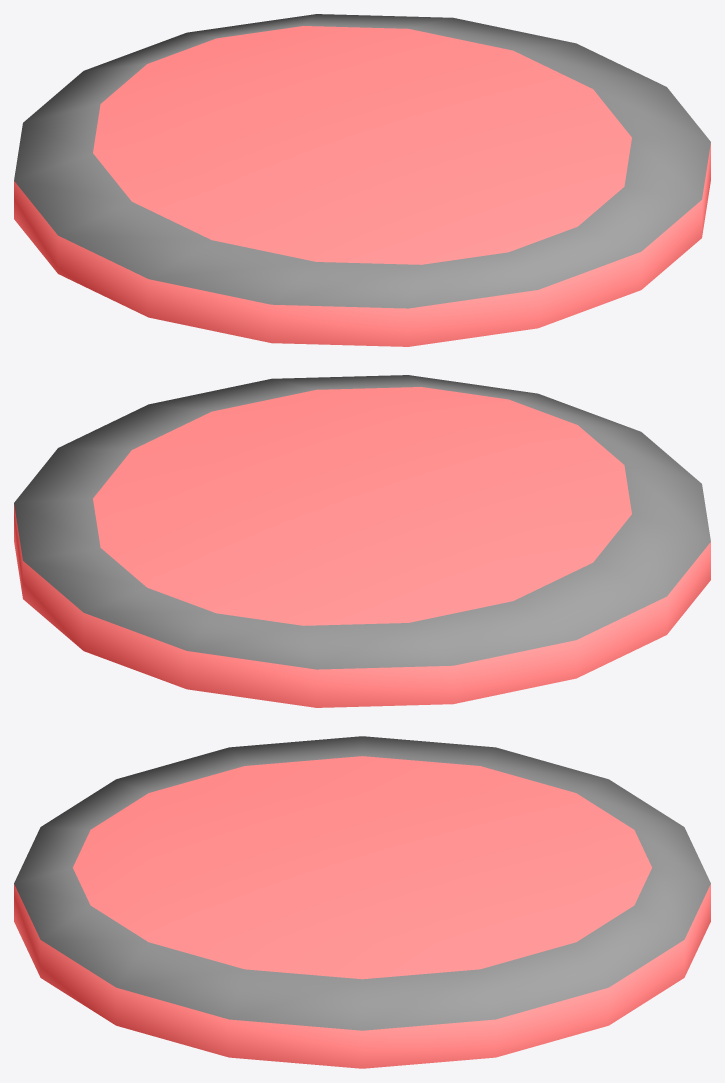
The model's file is rodeCasterPower.glb.
The picture shows the model from 3 angles, top to bottom: view 1: azimuth 30°, elevation 25°; view 2: azimuth 150°, elevation 25°; view 3: azimuth 270°, elevation 25°; orthographic projection.
Parts seen in each view (by area): view 1: RodeCasterPowerLights; view 2: RodeCasterPowerLights; view 3: RodeCasterPowerLights.
Part boxes in pixels (<box>): RodeCasterPowerLights: <box>14,14,710,346</box>; RodeCasterPowerLights: <box>14,375,710,707</box>; RodeCasterPowerLights: <box>14,736,710,1068</box>.
Size of the model in its own units: 0.0157 by 0.00134 by 0.0157.
